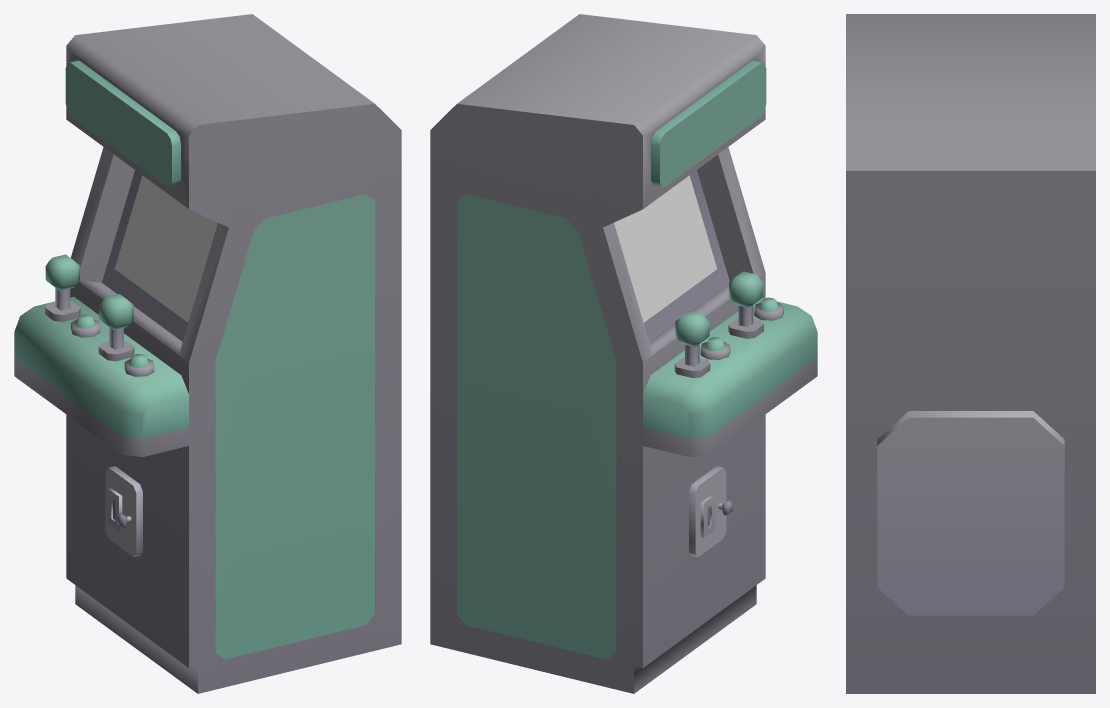
The model's file is arcade-machine.glb.
3 views of the same model, side by side, from view 1: azimuth 30°, elevation 25°; view 2: azimuth 150°, elevation 25°; view 3: azimuth 270°, elevation 25° (orthographic).
Parts seen in each view (by area): view 1: arcade-machine; view 2: arcade-machine; view 3: arcade-machine.
Part boxes in pixels (box(x1,y1,x2,y2)): arcade-machine: box(14, 14, 401, 693); arcade-machine: box(430, 14, 817, 693); arcade-machine: box(846, 14, 1095, 693).
Size of the model in its own units: 0.8063 by 1.53 by 0.6.
